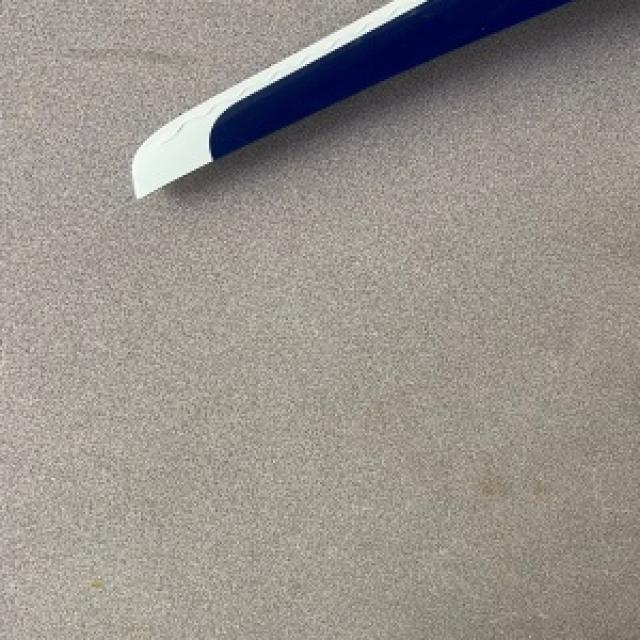healthy: (132, 0, 567, 196)
